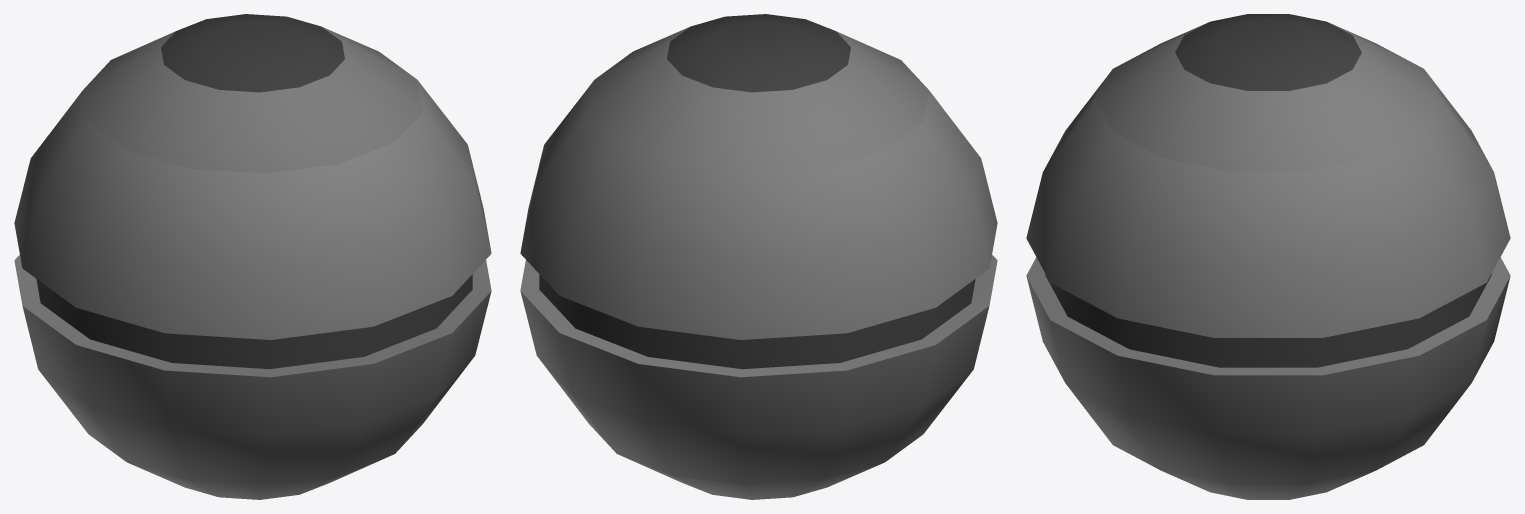
File: Ball_1.fbx
3 renders of one model, left to right at view 1: azimuth 30°, elevation 25°; view 2: azimuth 150°, elevation 25°; view 3: azimuth 270°, elevation 25°, orthographic.
Visible parts, largest first — view 1: Ball_1; view 2: Ball_1; view 3: Ball_1.
Part boxes in pixels (box(x1,y1,x2,y2)): Ball_1: box(14, 14, 491, 499); Ball_1: box(520, 14, 997, 499); Ball_1: box(1026, 14, 1510, 499).
Bounding box in the file's own units: 142 × 144 × 146.
Materials: 1 (1 with a texture image).
